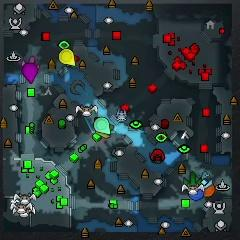p1: (188, 182, 204, 200)
p2: (94, 117, 111, 134)
p3: (22, 63, 38, 83)
p4: (58, 48, 77, 67)
p5: (201, 184, 215, 198)
x1: (21, 56, 40, 69)
x2: (94, 124, 114, 139)
x3: (199, 170, 213, 189)
x4: (183, 171, 203, 189)
